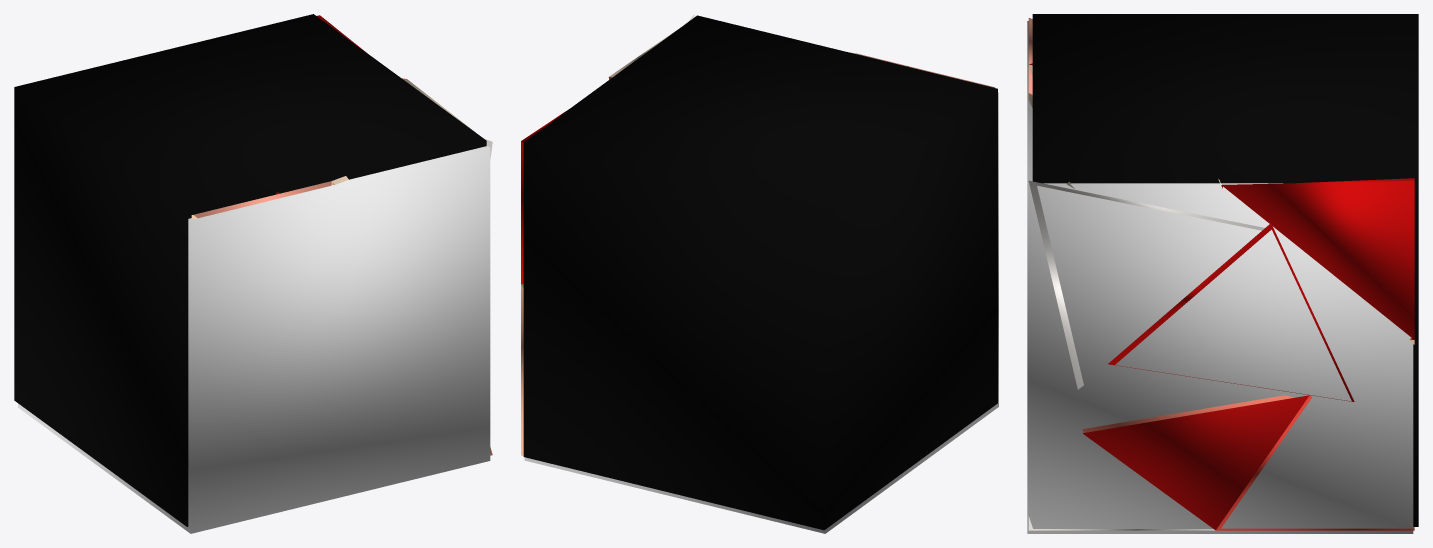
3 renders of one model, left to right at view 1: azimuth 30°, elevation 25°; view 2: azimuth 150°, elevation 25°; view 3: azimuth 270°, elevation 25°, orthographic. The views are drawn at different scales.
Parts seen in each view (by area): view 1: Renderer Node; view 2: Renderer Node; view 3: Renderer Node.
Boxes of the visible parts, bbox=[...] form: Renderer Node: bbox=[14, 14, 492, 533]; Renderer Node: bbox=[521, 14, 998, 533]; Renderer Node: bbox=[1027, 14, 1418, 533].
Size of the model in its own units: 2.11 by 2.12 by 2.11.
